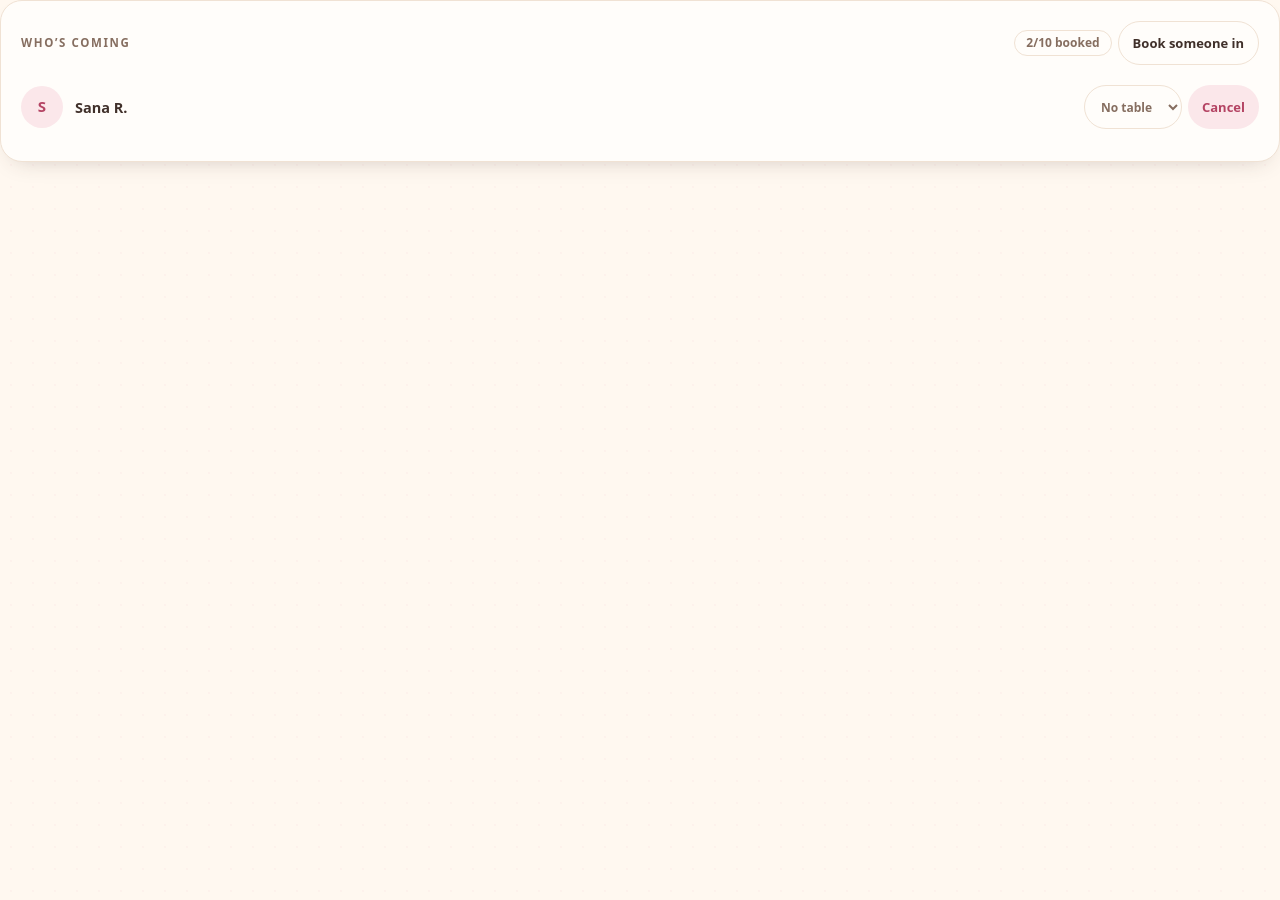
Scenario: SessionRoster › cancelling › can be backed out of
Click the button with aria-label "Cancel Sana R.". click: (1224, 107)
box: [1188,85,1259,129]
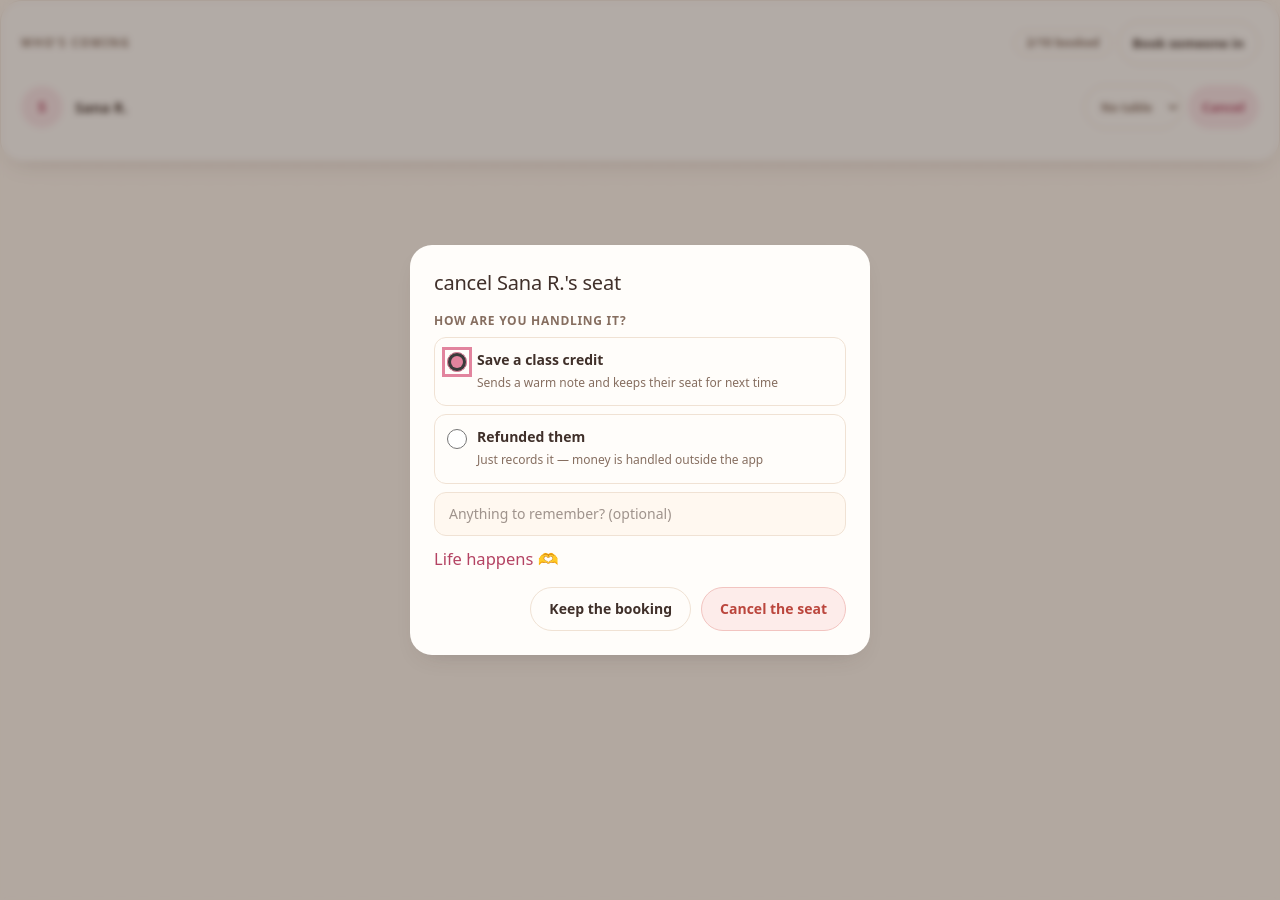
Click the button "Keep the booking". click: (611, 609)
box: [530,587,691,631]
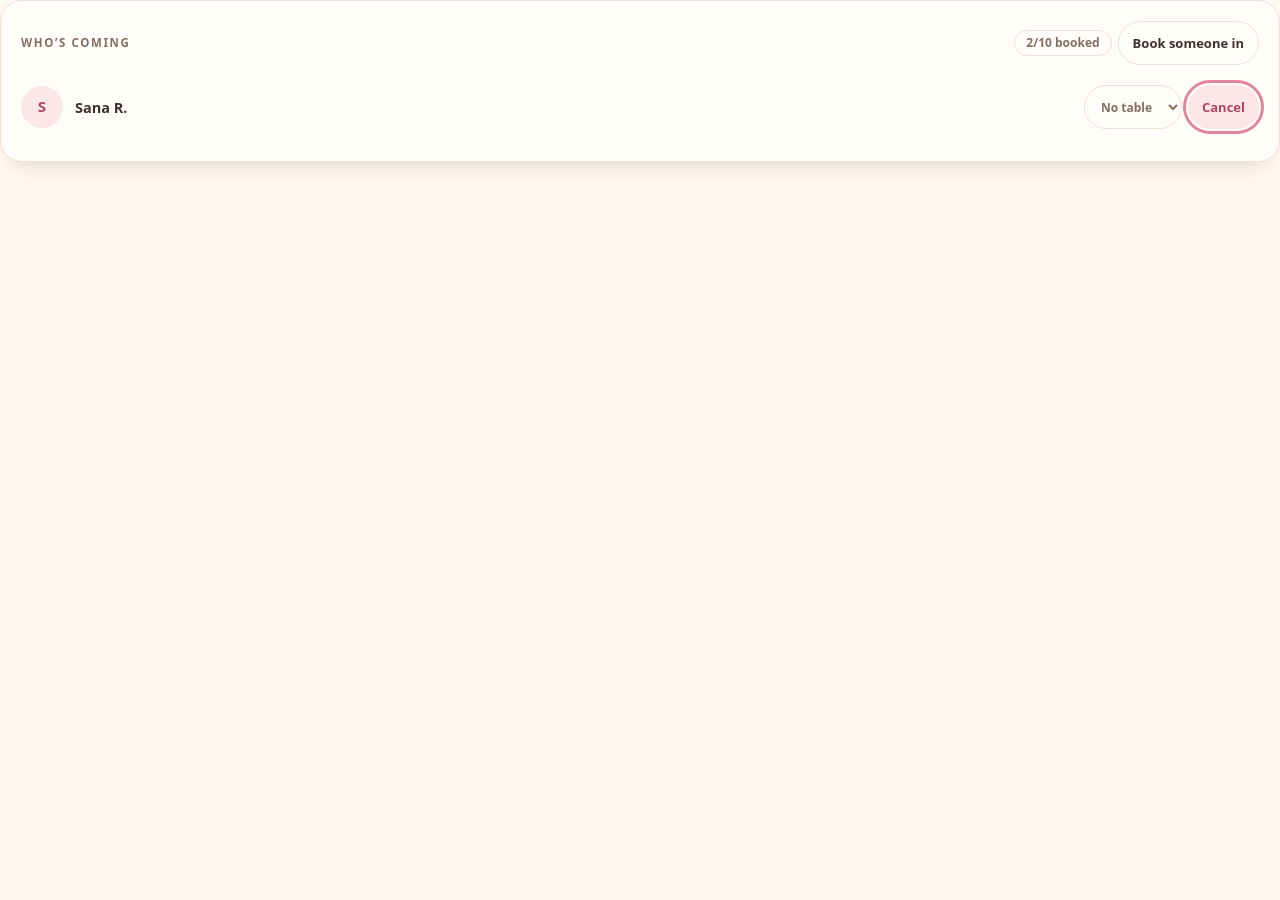
Expected: the dialog is gone
